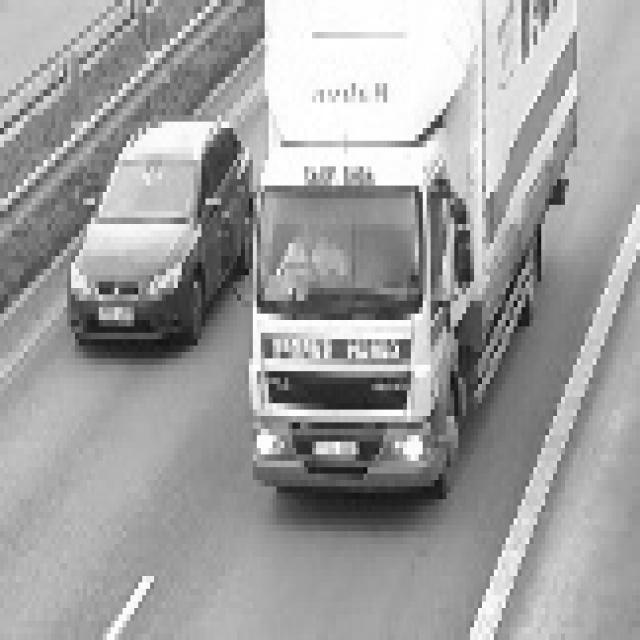truck: (224, 112, 483, 501)
